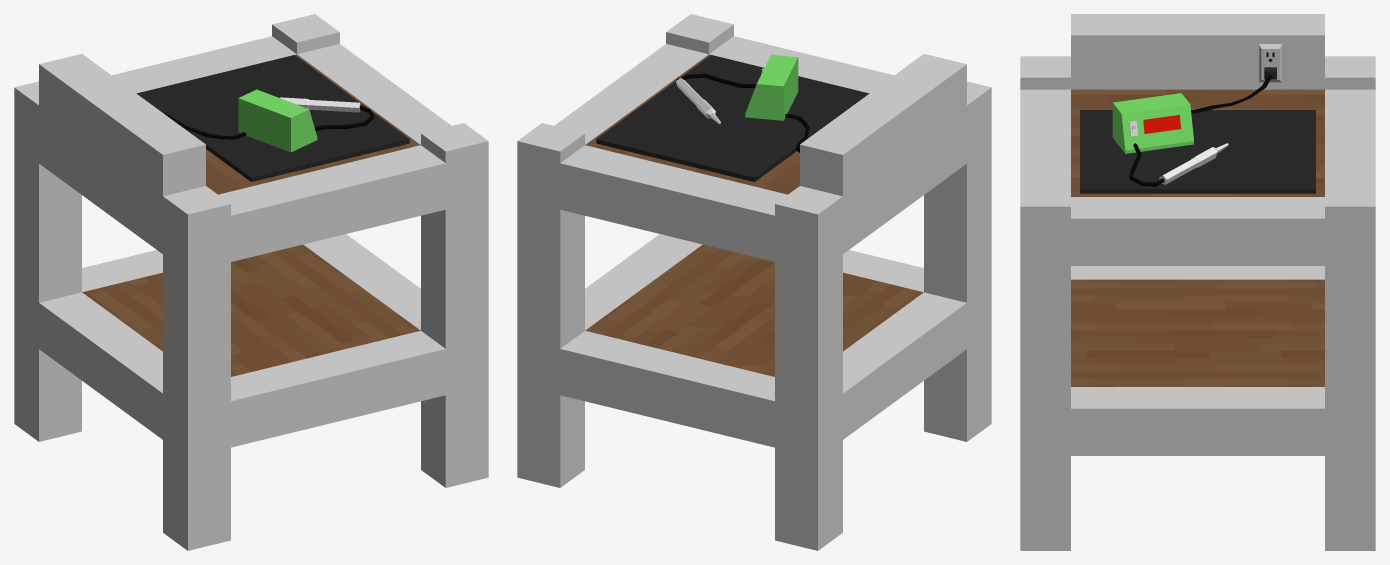
The model's file is soldering_station.fbx.
The picture shows the model from 3 angles, left to right: view 1: azimuth 30°, elevation 25°; view 2: azimuth 150°, elevation 25°; view 3: azimuth 270°, elevation 25°; orthographic projection. The views are drawn at different scales.
Visible parts, largest first — view 1: SalderingStation; view 2: SalderingStation; view 3: SalderingStation.
Part boxes in pixels (x1,y1,x2,y2): SalderingStation: [14, 14, 488, 550]; SalderingStation: [517, 14, 991, 550]; SalderingStation: [1020, 14, 1375, 550].
Size of the model in its own units: 1000 by 1200 by 1000.
